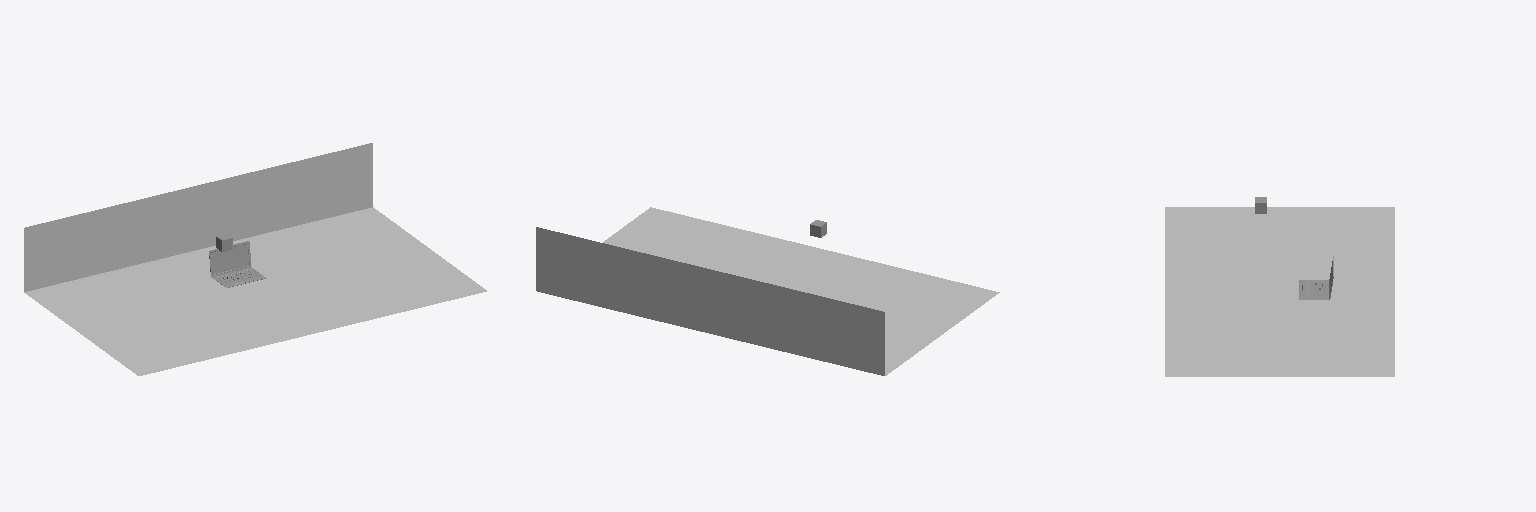
Rendered from laptop.obj.
3 renders of one model, left to right at view 1: azimuth 30°, elevation 25°; view 2: azimuth 150°, elevation 25°; view 3: azimuth 270°, elevation 25°, orthographic.
Parts seen in each view (by area): view 1: Plane_Plane.005, Screen_Plane.004; view 2: Plane_Plane.005; view 3: Plane_Plane.005.
Part boxes in pixels (bbox=[...]): Plane_Plane.005: bbox=[24, 143, 486, 375]; Screen_Plane.004: bbox=[209, 241, 250, 276]; Plane_Plane.005: bbox=[536, 207, 999, 375]; Plane_Plane.005: bbox=[1165, 207, 1394, 376].
Bounding box in the file's own units: 64.12 × 12.58 × 36.56.